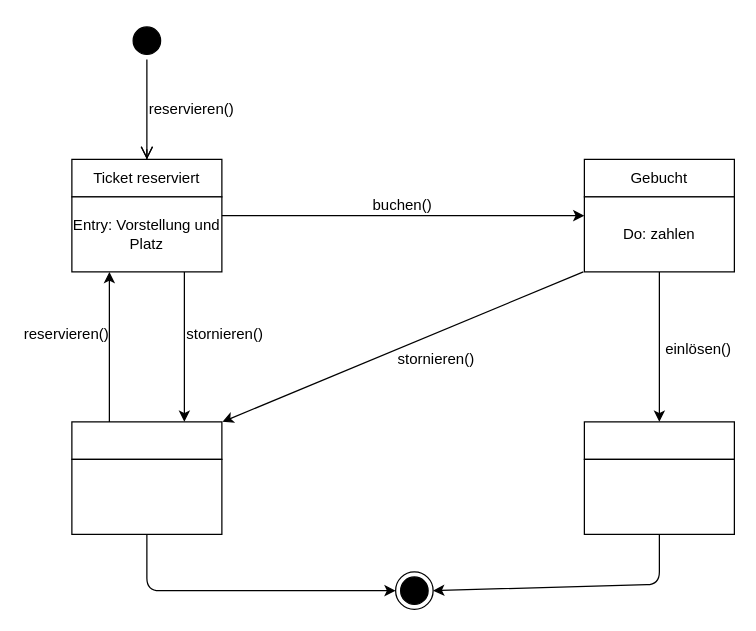
Some shapes in this 756 by 631 pixel diagram are drawn without their labels. The centre of each missing label's shape, as x and y in pixels:
Eingelöst/ entwertet: [658,440]
Storniert(): [146,440]
